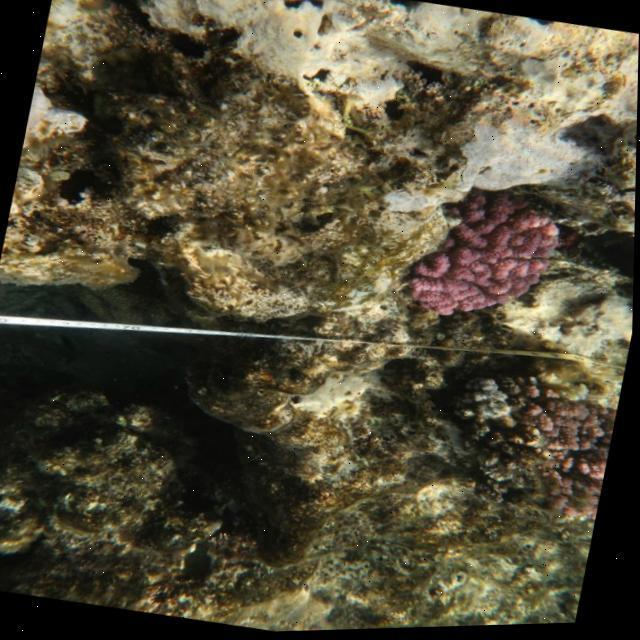Healthy Coral: (397, 178, 570, 336), (521, 369, 615, 512)
